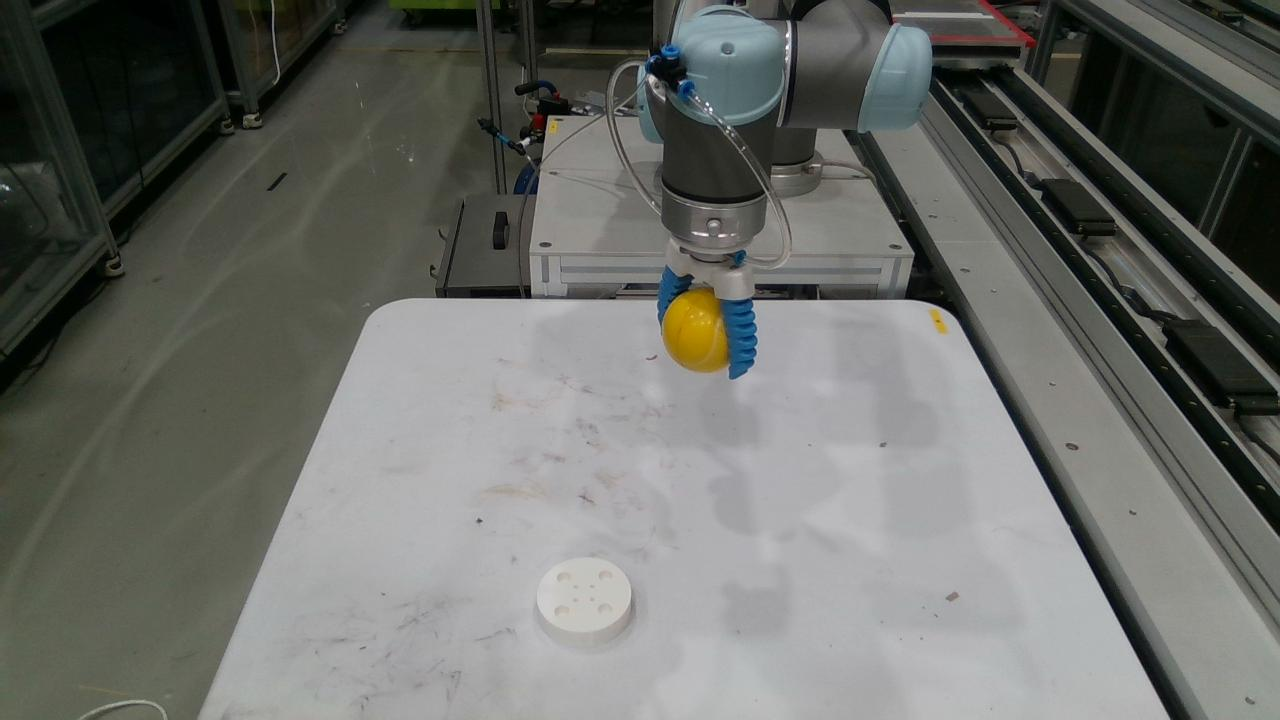UR5: (638, 0, 928, 298)
gripper_left: (657, 266, 692, 326)
gripper_right: (726, 299, 756, 377)
target: (538, 561, 630, 637), (664, 288, 726, 372)
